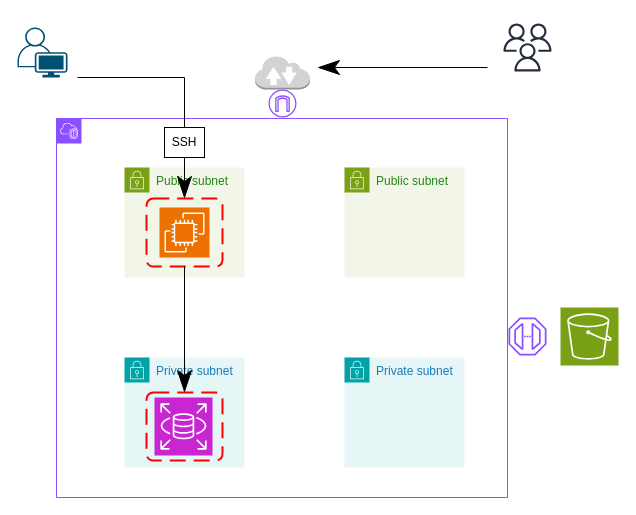
Image size: 636x515. Some labels were removed from this diagram. Here are the shapes that lost their labels. From the top down, the box of each, then its label:
(496, 16, 558, 78): Users
(56, 118, 508, 498): VPC
